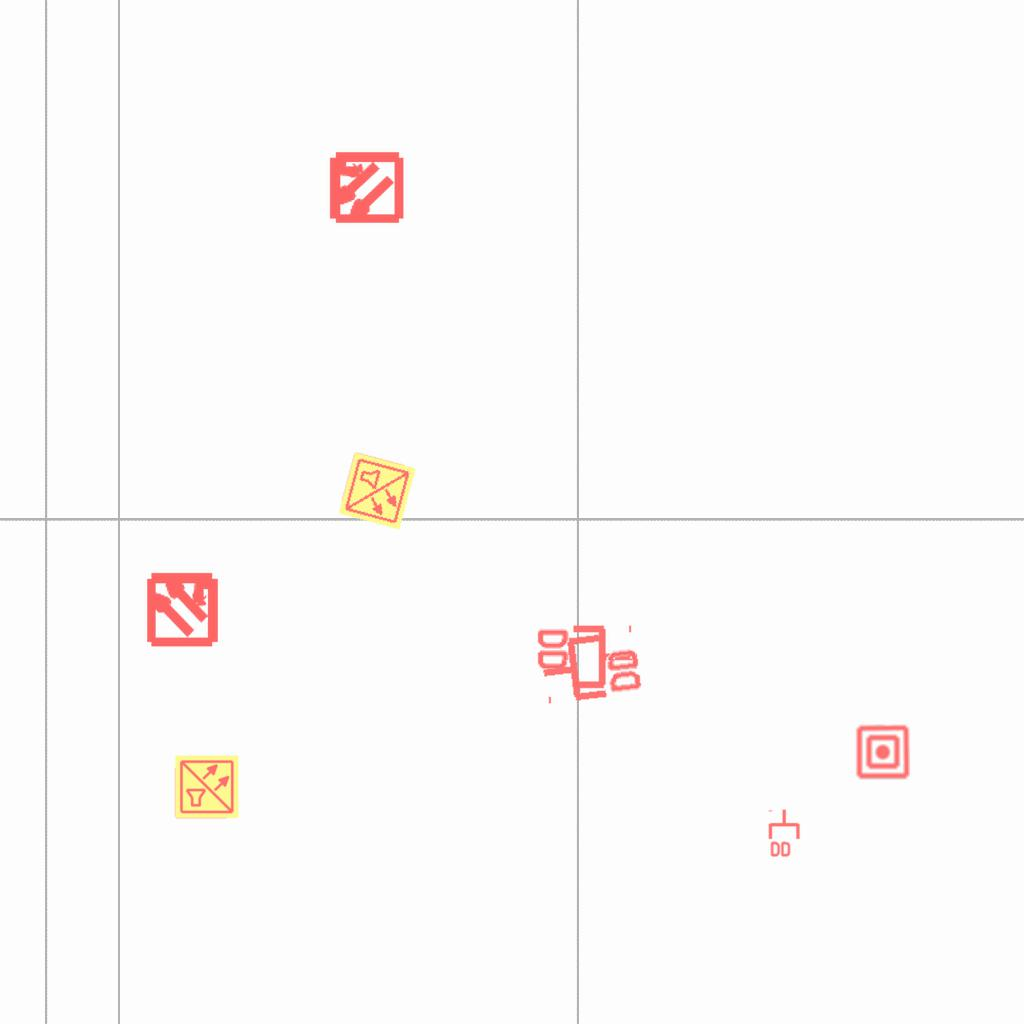Datenanschluss_zweifach: (536, 624, 647, 707), (533, 624, 636, 693), (768, 808, 802, 859)
NAM-Nichtautomatischer_Melder: (855, 724, 911, 780)
OKW_Multisensormelder_(Kombination_optischer_Rauch-Kahlenmonoxid_Waerme-Melder): (336, 450, 418, 532), (174, 754, 240, 820)
OT_Multisensormelder_(Kombination_RMO_WMD): (126, 551, 239, 664), (308, 131, 421, 244)
